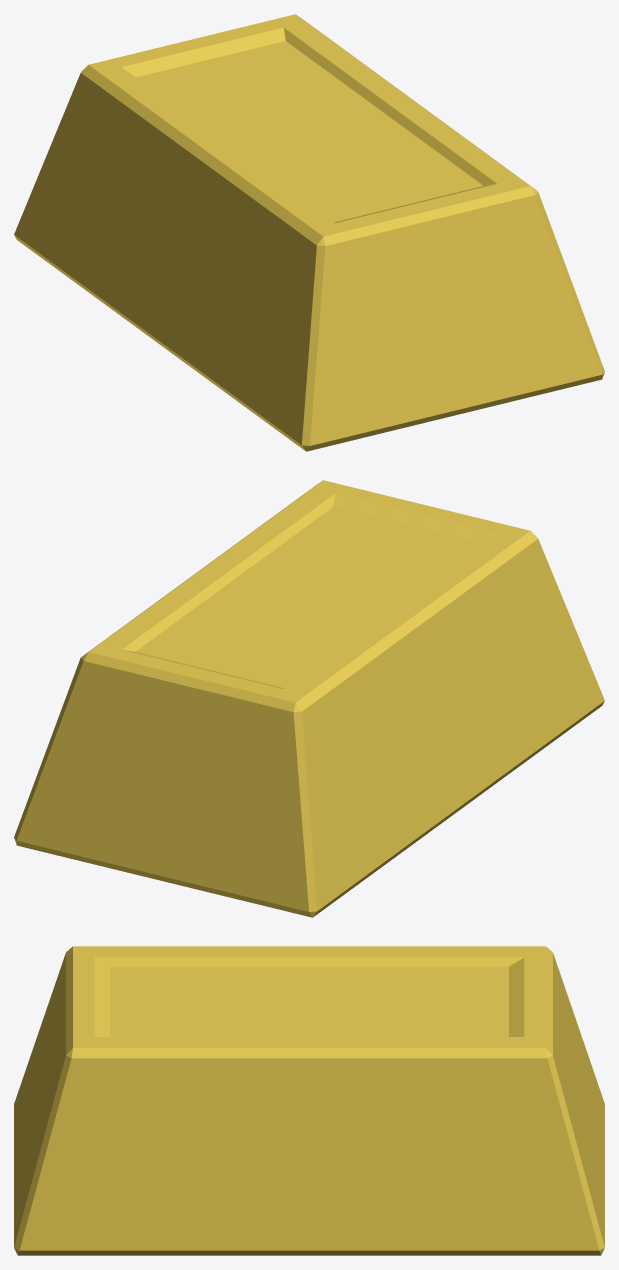
File: brick.fbx
The picture shows the model from 3 angles, top to bottom: view 1: azimuth 30°, elevation 25°; view 2: azimuth 150°, elevation 25°; view 3: azimuth 270°, elevation 25°; orthographic projection.
Visible parts, largest first — view 1: MatelBrick; view 2: MatelBrick; view 3: MatelBrick.
Boxes of the visible parts, bbox=[...] form: MatelBrick: bbox=[14, 14, 604, 451]; MatelBrick: bbox=[14, 480, 604, 917]; MatelBrick: bbox=[14, 946, 604, 1255].
Bounding box in the file's own units: 53.65 × 31.16 × 89.91.
